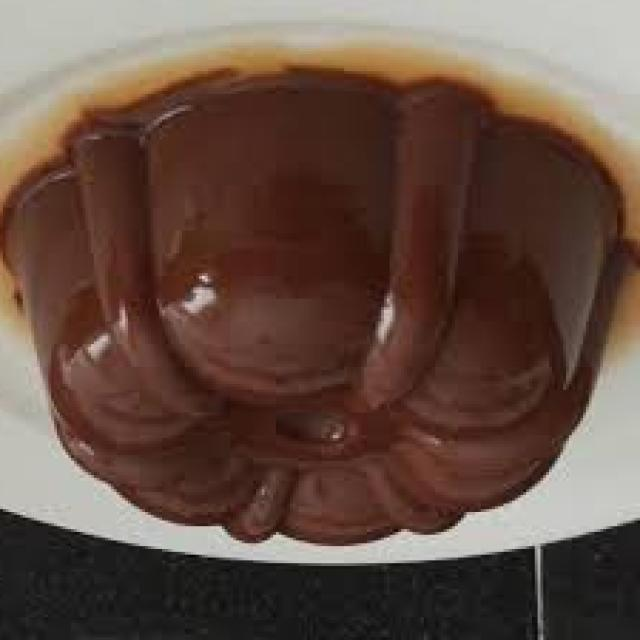puding: (0, 65, 637, 546)
